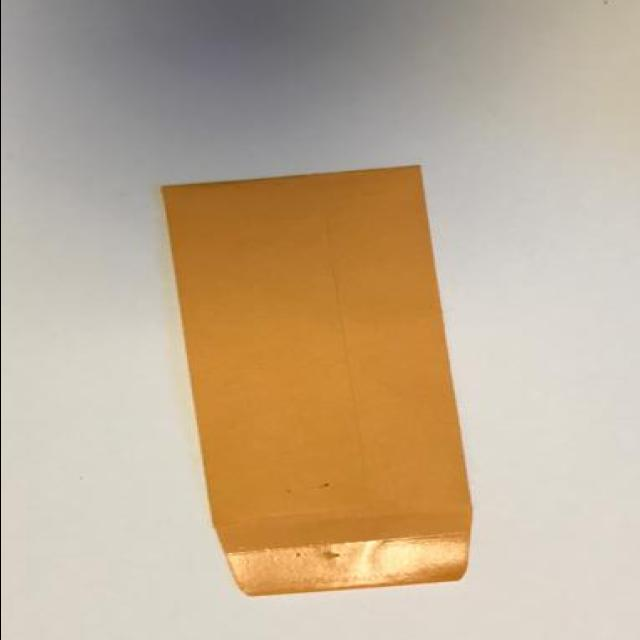kertas: (161, 165, 471, 597)
